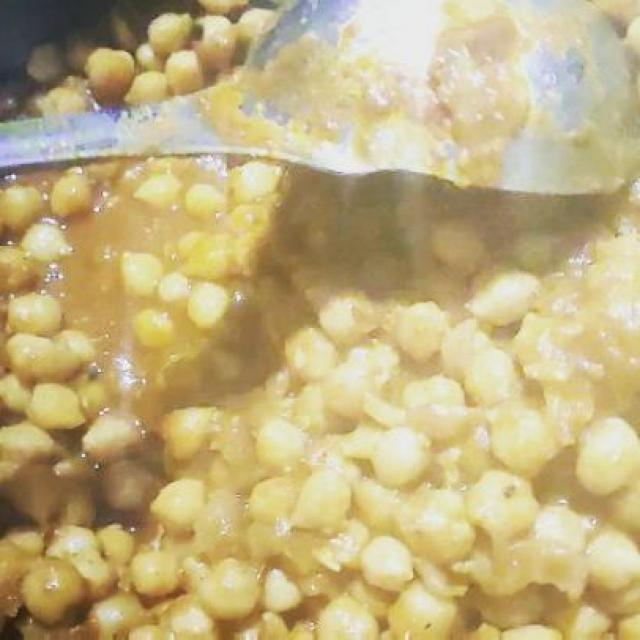Chole: (0, 231, 615, 640)
